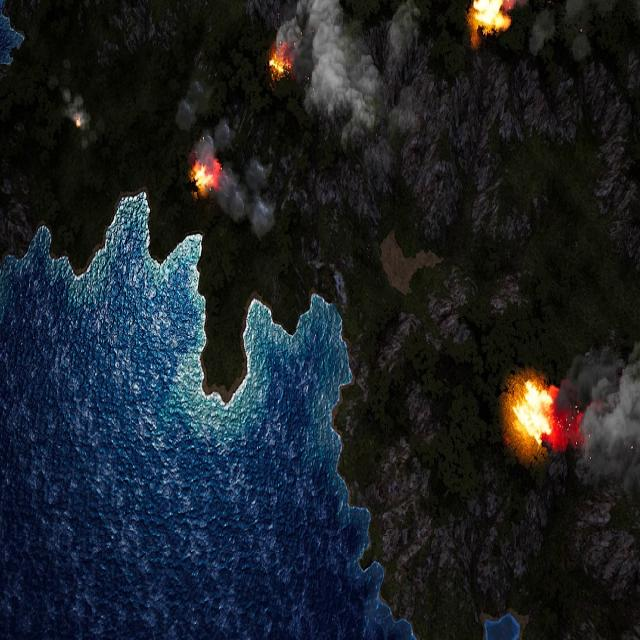fire: (512, 379, 559, 449), (470, 0, 511, 39), (192, 160, 221, 195), (269, 44, 293, 82), (74, 114, 82, 130)
smoke: (550, 236, 638, 602), (282, 3, 435, 181), (179, 62, 281, 235), (496, 0, 639, 63), (61, 82, 90, 136)
